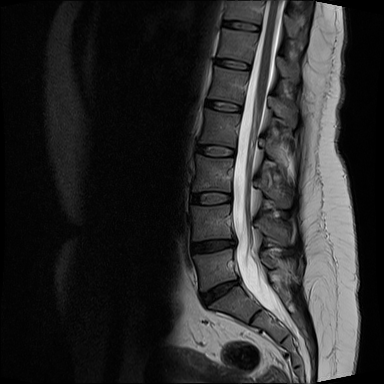Lumbar Disc Bulge (LDB): (194, 273, 247, 313), (189, 234, 242, 261)
Normal IVD: (186, 187, 237, 207), (201, 94, 246, 116), (210, 53, 255, 74), (191, 141, 240, 160), (219, 17, 265, 35)
Spinal Stenosis (SS): (230, 271, 245, 292), (225, 233, 241, 252)
